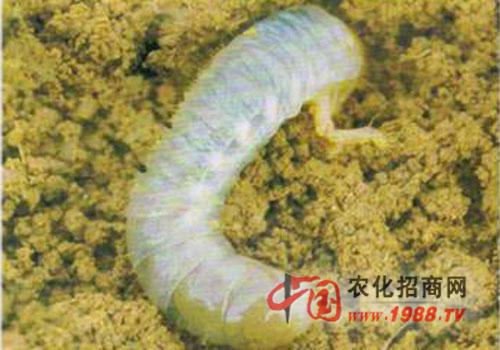grub: (128, 2, 362, 337)
